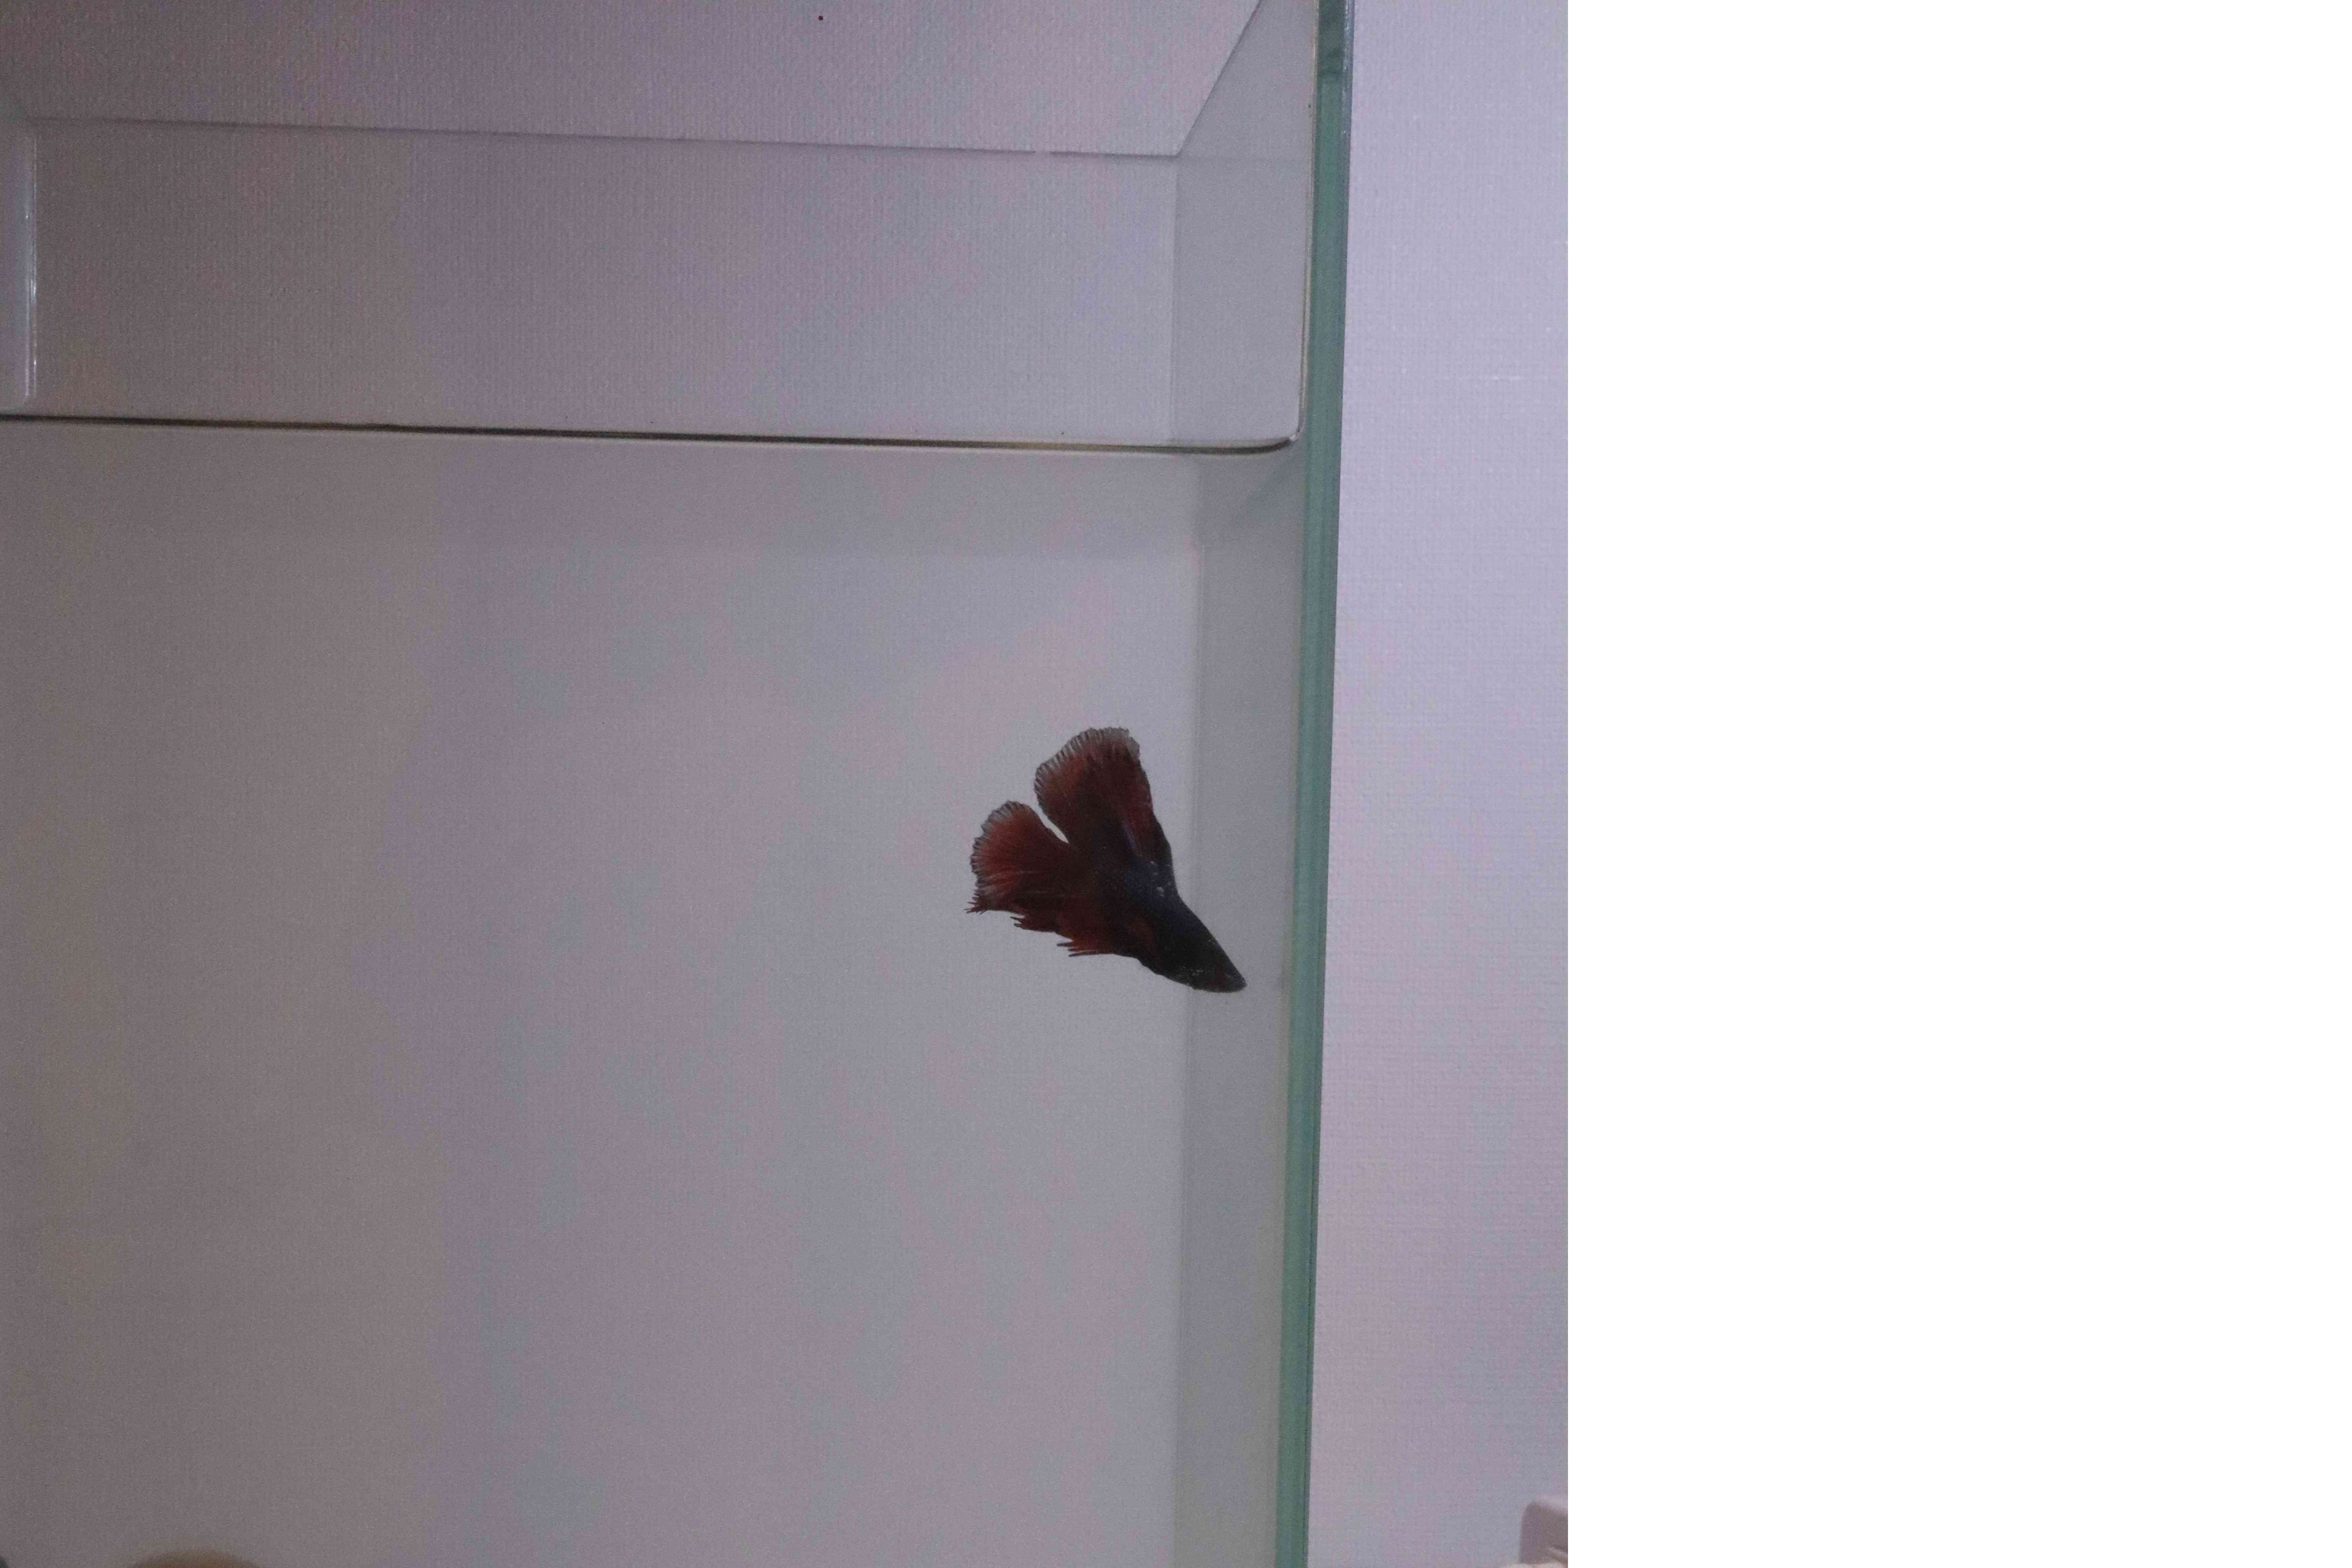fish: (952, 721, 1249, 1011)
